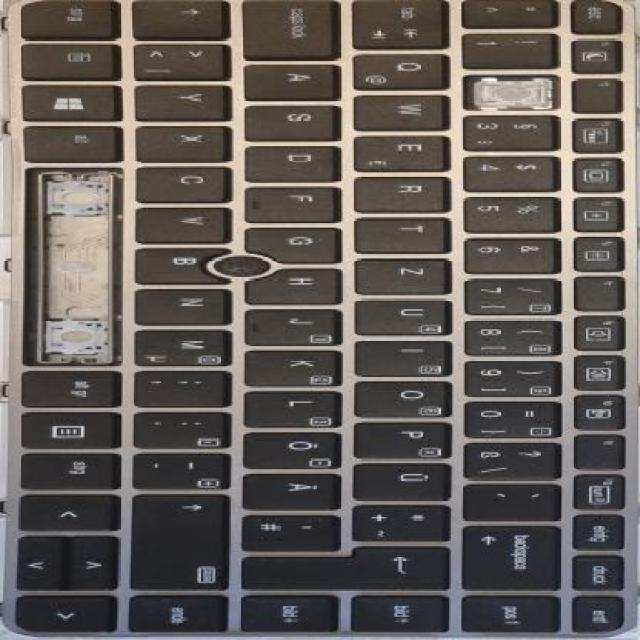Keyboard problems: (26, 171, 118, 363), (469, 77, 557, 109)
